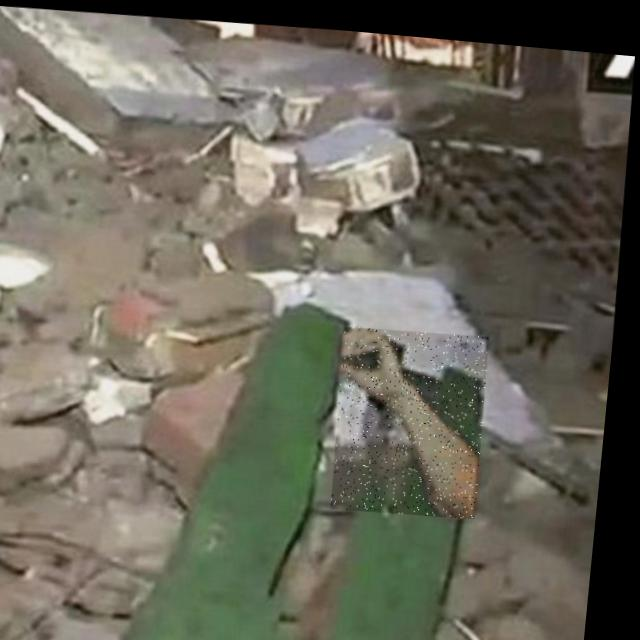Person in Rubble: (337, 317, 497, 511)
